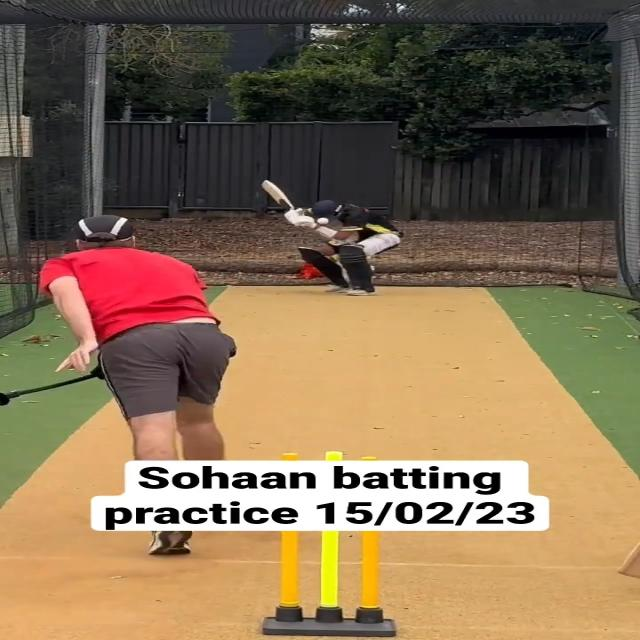ball: (317, 218, 329, 225)
stump: (263, 530, 396, 638)
